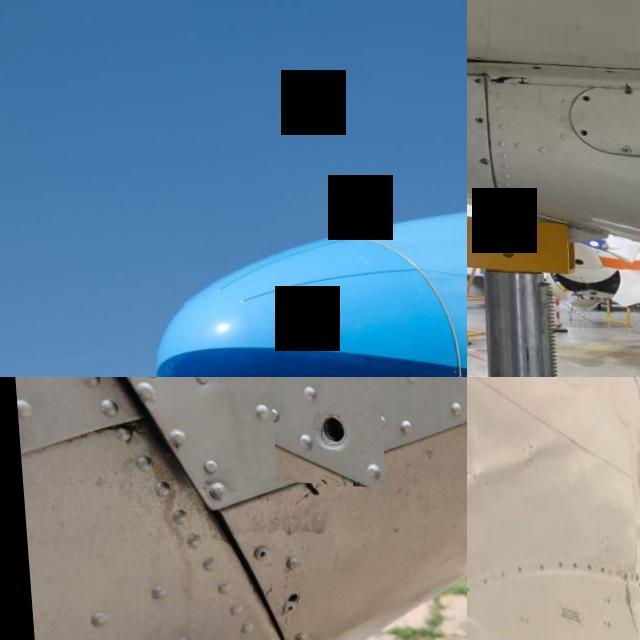Dent: (467, 423, 571, 496)
Missing_Fastener: (265, 377, 380, 483), (576, 92, 588, 100), (471, 115, 480, 122), (574, 126, 584, 132), (483, 189, 491, 193)
